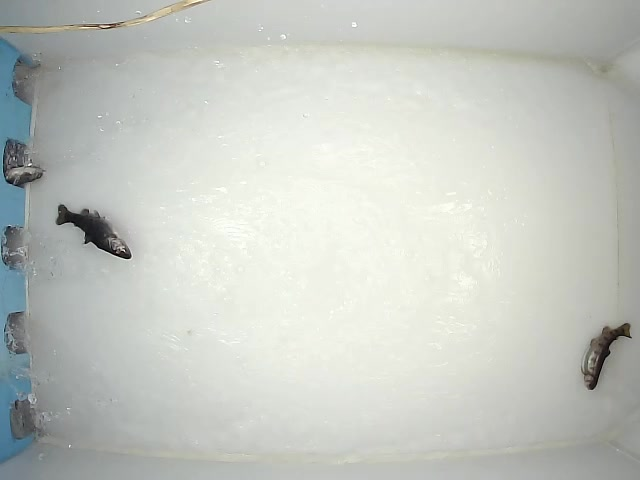fish: (54, 201, 134, 261), (580, 321, 632, 392)
